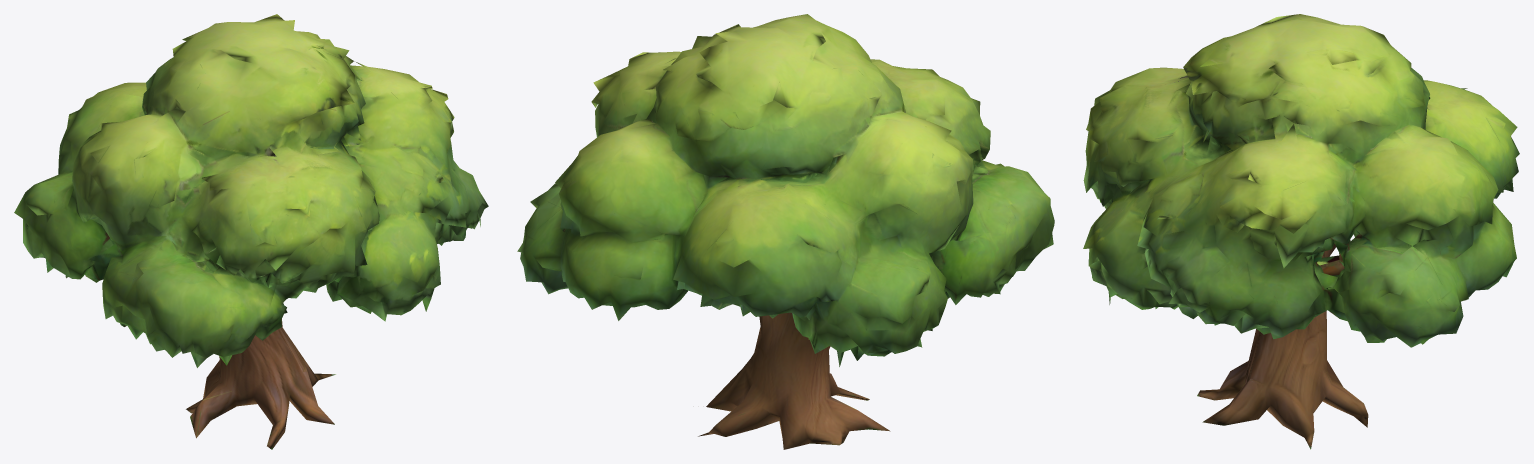
File: Meshy_AI_arbol_1217011039_texture.fbx
The picture shows the model from 3 angles, left to right: view 1: azimuth 30°, elevation 25°; view 2: azimuth 150°, elevation 25°; view 3: azimuth 270°, elevation 25°; orthographic projection. The views are drawn at different scales.
Parts seen in each view (by area): view 1: Mesh_0; view 2: Mesh_0; view 3: Mesh_0.
Part boxes in pixels (x1=…): Mesh_0: x1=14, y1=14, x2=488, y2=449; Mesh_0: x1=517, y1=14, x2=1054, y2=449; Mesh_0: x1=1083, y1=14, x2=1519, y2=449.
Size of the model in its own units: 200 by 194 by 199.
1 material, 1 textured.
